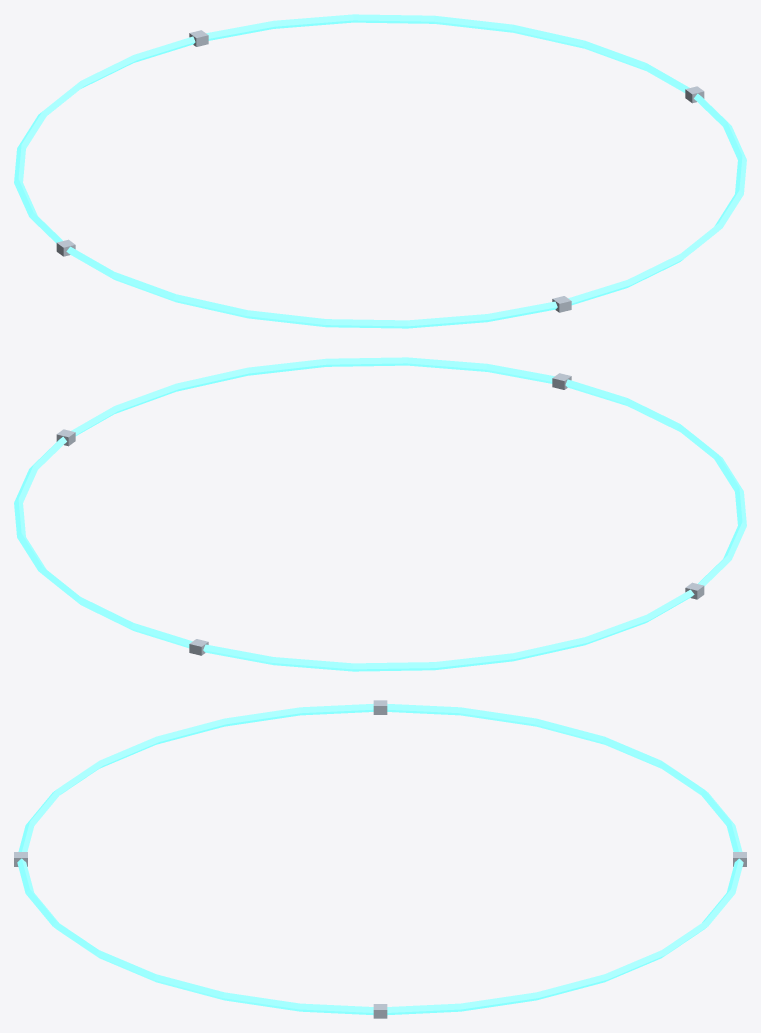
Rendered from core_ring_outer.glb.
3 renders of one model, top to bottom at view 1: azimuth 30°, elevation 25°; view 2: azimuth 150°, elevation 25°; view 3: azimuth 270°, elevation 25°, orthographic.
Visible parts, largest first — view 1: core_ring_outer; view 2: core_ring_outer; view 3: core_ring_outer.
Part boxes in pixels (left/top/right/bottom): core_ring_outer: left=14, top=14, right=746, bottom=328; core_ring_outer: left=14, top=357, right=746, bottom=671; core_ring_outer: left=14, top=700, right=746, bottom=1018.
Bounding box in the file's own units: 1.79 × 0.024 × 1.79.
